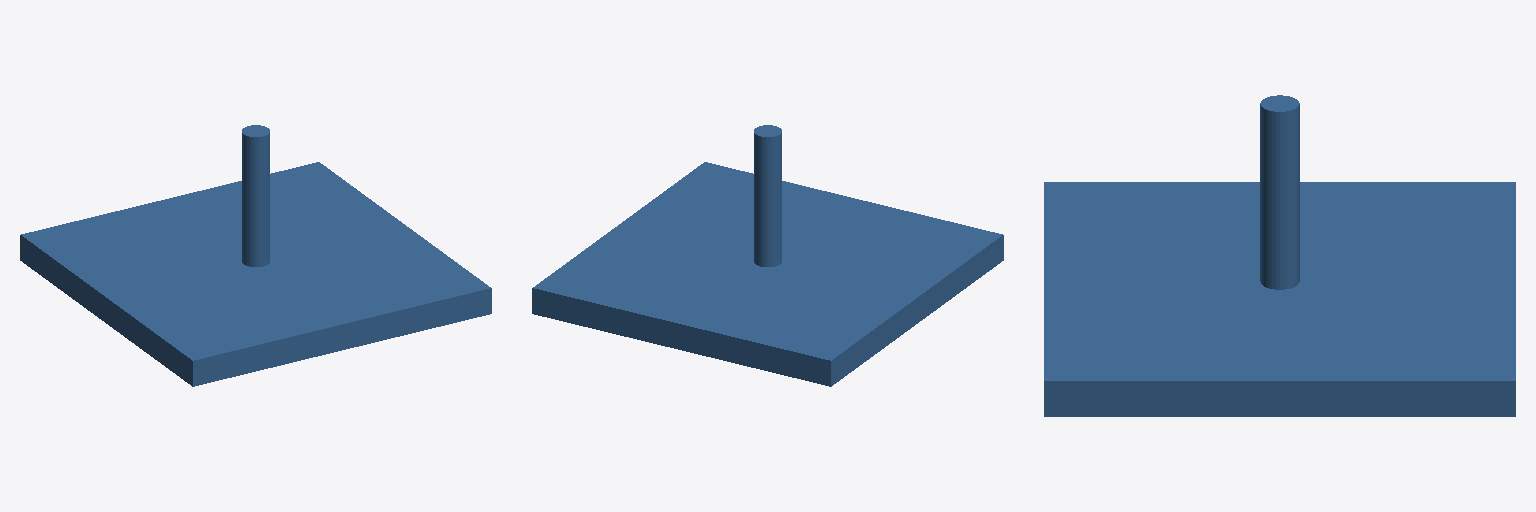
URDF robot description (bluen_stand):
<?xml version="1.0" encoding="UTF-8"?>

<robot name="bluen_stand">
  <link name="baseLink">
    <inertial>
      <origin rpy="0 0 0" xyz="0 0 0"/>
      <mass value=".1"/>
      <inertia ixx="1" ixy="0" ixz="0" iyy="1" iyz="0" izz="1"/>
    </inertial>

    <visual>
      <origin rpy="0 0 0" xyz="0 0 0.03"/>
      <geometry>
        <cylinder radius=".005" length="0.05"/>
      </geometry>
      <material name="blue">
        <color rgba="0.3 0.475 0.655 1"/>
      </material>
    </visual>
    <collision>
      <origin rpy="0 0 0" xyz="0 0 0.03"/>
      <geometry>
        <cylinder radius=".005" length="0.05"/>
      </geometry>
    </collision>

    <visual>
      <origin rpy="0 0 0" xyz="0 0 0"/>
      <geometry>
        <box size=".12 .12 .01"/>
      </geometry>
      <material name="blue">
        <color rgba="0.3 0.475 0.655 1"/>
      </material>
    </visual>
    <collision>
      <origin rpy="0 0 0" xyz="0 0 0"/>
      <geometry>
        <box size=".12 .12 .01"/>
      </geometry>
    </collision>
  </link>
</robot>

--- Render facts (derived) ---
The picture shows the robot from 3 angles, left to right: view 1: azimuth 30°, elevation 25°; view 2: azimuth 150°, elevation 25°; view 3: azimuth 270°, elevation 25°; orthographic projection.
Model bluen_stand with 1 links and 0 joints (none), rooted at baseLink, posed every joint at zero.
Visible links, largest first — view 1: baseLink; view 2: baseLink; view 3: baseLink.
Link boxes in pixels (bbox=[...]): baseLink: bbox=[20, 125, 491, 386]; baseLink: bbox=[532, 125, 1003, 386]; baseLink: bbox=[1044, 95, 1515, 416].
Bounding box of the posed robot: 0.12 × 0.12 × 0.06 m (x, y, z).
Geometry: primitives only (box / cylinder / sphere), no mesh files.
